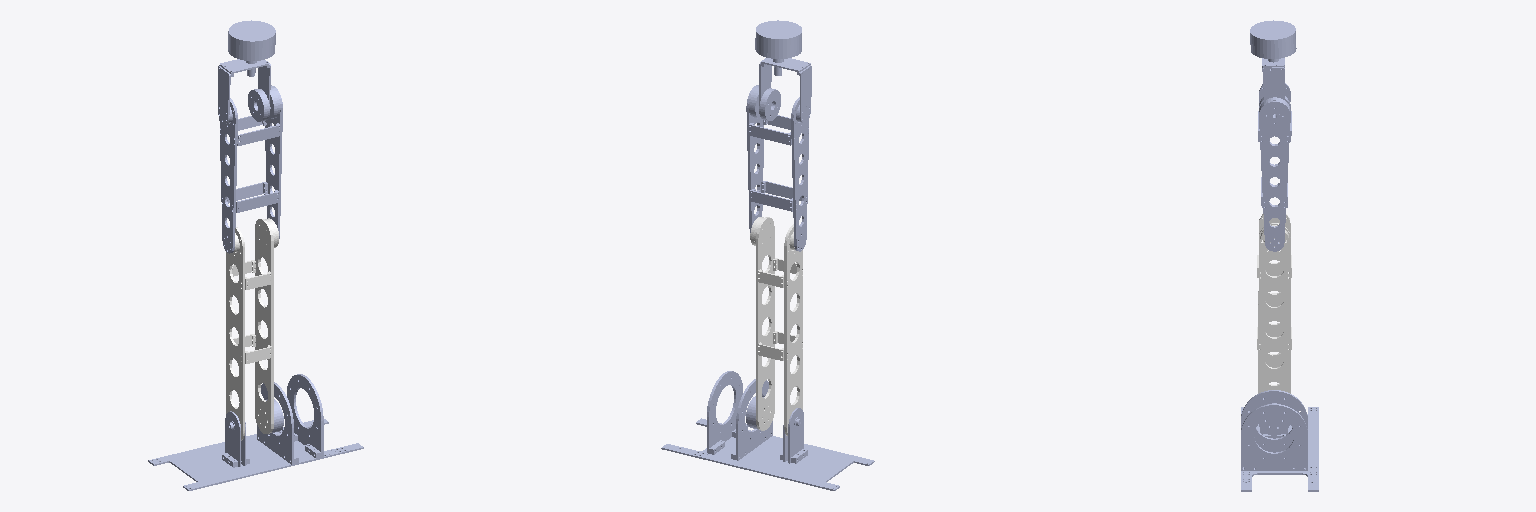
The robot description file, URDF, robot "armurdf_standard_motor":
<?xml version="1.0" encoding="utf-8"?>
<!-- This URDF was automatically created by SolidWorks to URDF Exporter! Originally created by Stephen Brawner (brawner@gmail.com) 
     Commit Version: 1.6.0-4-g7f85cfe  Build Version: 1.6.7995.38578
     For more information, please see http://wiki.ros.org/sw_urdf_exporter -->
<robot
  name="armurdf_standard_motor">
  <link
    name="base_link">
    <inertial>
      <origin
        xyz="0.06401797 0.00093364 0.06018482"
        rpy="0 0 0" />
      <mass
        value="1.19404" />
      <inertia
        ixx="0.00054518"
        ixy="-8.8651E-07"
        ixz="1.2762E-20"
        iyy="0.00099237"
        iyz="3.2702E-08"
        izz="0.0011813" />
    </inertial>
    <visual>
      <origin
        xyz="0 0 0"
        rpy="0 0 0" />
      <geometry>
        <mesh
          filename="package://armurdf/meshes/base_link.STL" />
      </geometry>
      <material
        name="">
        <color
          rgba="0.79216 0.81961 0.93333 1" />
      </material>
    </visual>
    <collision>
      <origin
        xyz="0 0 0"
        rpy="0 0 0" />
      <geometry>
        <mesh
          filename="package://armurdf/meshes/base_link.STL" />
      </geometry>
    </collision>
  </link>
  <link
    name="Link1">
    <inertial>
      <origin
        xyz="-0.00047343 0.28954791 0.0005662"
        rpy="0 0 0" />
      <mass
        value="0.54717" />
      <inertia
        ixx="0.0023759"
        ixy="3.3021E-06"
        ixz="-3.9537E-21"
        iyy="6.4486E-05"
        iyz="-5.53E-19"
        izz="0.0024336" />
    </inertial>
    <visual>
      <origin
        xyz="0 0 0"
        rpy="0 0 0" />
      <geometry>
        <mesh
          filename="package://armurdf/meshes/Link1.STL" />
      </geometry>
      <material
        name="">
        <color
          rgba="1 1 1 1" />
      </material>
    </visual>
    <collision>
      <origin
        xyz="0 0 0"
        rpy="0 0 0" />
      <geometry>
        <mesh
          filename="package://armurdf/meshes/Link1.STL" />
      </geometry>
    </collision>
  </link>
  <joint
    name="j1"
    type="revolute">
    <origin
      xyz="0 0 0.07"
      rpy="1.5708 0 -1.5708" />
    <parent
      link="base_link" />
    <child
      link="Link1" />
    <axis
      xyz="0 0 -1" />
    <limit
      lower="-3.14"
      upper="3.14"
      effort="30"
      velocity="3.14" />
  </joint>
  <link
    name="Link2">
    <inertial>
      <origin
        xyz="-0.0003464 0.2219719 0.00658453"
        rpy="0 0 0" />
      <mass
        value="0.5273" />
      <inertia
        ixx="0.00075992"
        ixy="1.0161E-06"
        ixz="4.134E-20"
        iyy="4.9865E-05"
        iyz="5.7918E-19"
        izz="0.00078302" />
    </inertial>
    <visual>
      <origin
        xyz="0 0 0"
        rpy="0 0 0" />
      <geometry>
        <mesh
          filename="package://armurdf/meshes/Link2.STL" />
      </geometry>
      <material
        name="">
        <color
          rgba="0.79216 0.81961 0.93333 0.25" />
      </material>
    </visual>
    <collision>
      <origin
        xyz="0 0 0"
        rpy="0 0 0" />
      <geometry>
        <mesh
          filename="package://armurdf/meshes/Link2.STL" />
      </geometry>
    </collision>
  </link>
  <joint
    name="j2"
    type="revolute">
    <origin
      xyz="-0.0005 0.35 0"
      rpy="0 0 0" />
    <parent
      link="Link1" />
    <child
      link="Link2" />
    <axis
      xyz="0 0 -1" />
    <limit
      lower="-3.14"
      upper="3.14"
      effort="10"
      velocity="3.14" />
  </joint>
  <link
    name="Link3">
    <inertial>
      <origin
        xyz="0.002693 0.11635 0.0019852"
        rpy="0 0 0" />
      <mass
        value="0.24563" />
      <inertia
        ixx="0.00013404"
        ixy="1.2628E-06"
        ixz="6.3612E-09"
        iyy="0.0001778"
        iyz="-1.8653E-10"
        izz="0.00013348" />
    </inertial>
    <visual>
      <origin
        xyz="0 0 0"
        rpy="0 0 0" />
      <geometry>
        <mesh
          filename="package://armurdf/meshes/Link3.STL" />
      </geometry>
      <material
        name="">
        <color
          rgba="0.79216 0.81961 0.93333 1" />
      </material>
    </visual>
    <collision>
      <origin
        xyz="0 0 0"
        rpy="0 0 0" />
      <geometry>
        <mesh
          filename="package://armurdf/meshes/Link3.STL" />
      </geometry>
    </collision>
  </link>
  <joint
    name="j3"
    type="revolute">
    <origin
      xyz="-0.000357142857063231 0.24999974489785 -0.00262500000000032"
      rpy="0 0 0" />
    <parent
      link="Link2" />
    <child
      link="Link3" />
    <axis
      xyz="0 0 -1" />
    <limit
      lower="-3.14"
      upper="3.14"
      effort="10"
      velocity="3.14" />
  </joint>
  <link
    name="tool_Link">
    <inertial>
      <origin
        xyz="0 0 0"
        rpy="0 0 0" />
      <mass
        value="0.0001" />
      <inertia
        ixx="1E-06"
        ixy="1E-06"
        ixz="0"
        iyy="1E-06"
        iyz="0"
        izz="0" />
    </inertial>
    <visual>
      <origin
        xyz="0 0 0"
        rpy="0 0 0" />
      <geometry>
        <mesh
          filename="package://armurdf/meshes/tool_Link.STL" />
      </geometry>
      <material
        name="">
        <color
          rgba="1 1 1 1" />
      </material>
    </visual>
    <collision>
      <origin
        xyz="0 0 0"
        rpy="0 0 0" />
      <geometry>
        <mesh
          filename="package://armurdf/meshes/tool_Link.STL" />
      </geometry>
    </collision>
  </link>
  <joint
    name="j_tool"
    type="fixed">
    <origin
      xyz="0.0034791 0.14696 -2.5E-05"
      rpy="0 0 0" />
    <parent
      link="Link3" />
    <child
      link="tool_Link" />
    <axis
      xyz="0 0 0" />
  </joint>
</robot>

--- Render facts (derived) ---
3 views of the same robot in one strip: view 1: azimuth 30°, elevation 25°; view 2: azimuth 150°, elevation 25°; view 3: azimuth 270°, elevation 25° (orthographic).
Model armurdf_standard_motor with 5 links and 4 joints (3 revolute, 1 fixed), rooted at base_link, posed every joint at zero.
Links seen in each view (by area): view 1: base_link, Link1, Link2, Link3; view 2: base_link, Link1, Link2, Link3; view 3: base_link, Link1, Link2, Link3.
Link boxes in pixels (x1=…): base_link: x1=148, y1=374, x2=363, y2=490; Link1: x1=226, y1=218, x2=278, y2=440; Link2: x1=219, y1=85, x2=282, y2=253; Link3: x1=218, y1=20, x2=275, y2=123; base_link: x1=661, y1=371, x2=874, y2=490; Link1: x1=750, y1=217, x2=802, y2=435; Link2: x1=746, y1=85, x2=808, y2=251; Link3: x1=755, y1=20, x2=811, y2=122; base_link: x1=1241, y1=390, x2=1318, y2=491; Link1: x1=1257, y1=214, x2=1291, y2=393; Link2: x1=1258, y1=83, x2=1291, y2=251; Link3: x1=1250, y1=20, x2=1296, y2=100.
Size in the robot's own frame: 0.35 by 0.14 by 0.8212 metres.
Meshes: 5 distinct files referenced, 4 mesh visuals loaded (4 binary STL); not drawn: 1 (reference not matched to a file when rendering).
